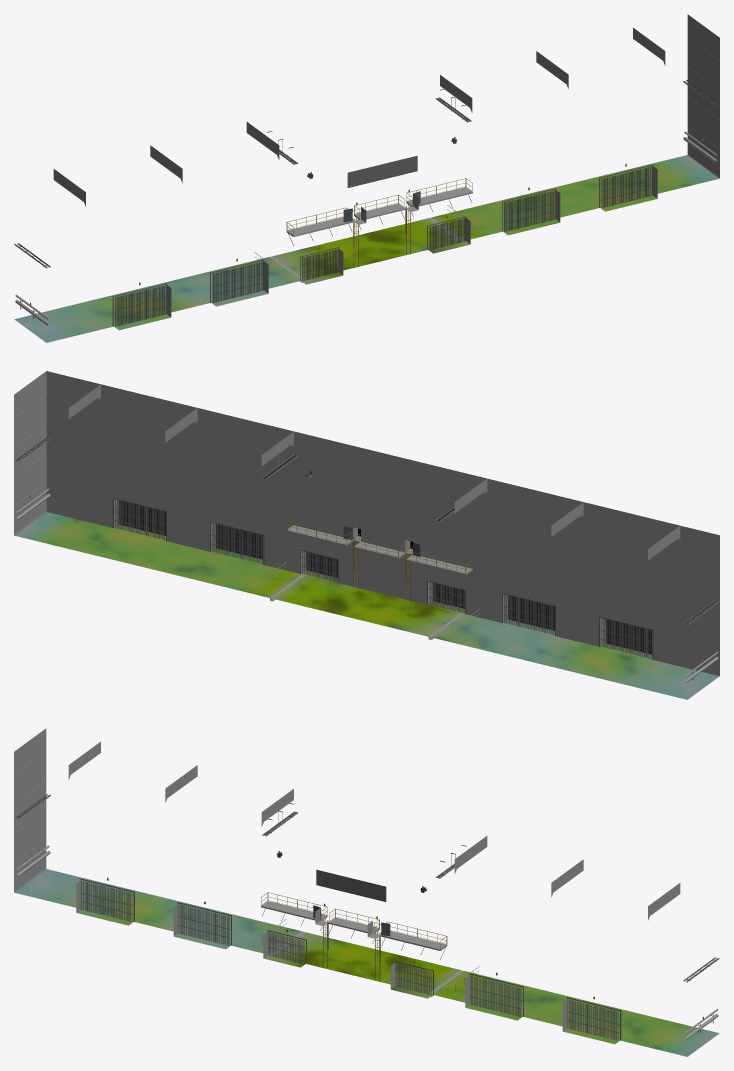
File: cistern_end_downstream.glb
3 views of the same model, one above another, from view 1: azimuth 30°, elevation 25°; view 2: azimuth 150°, elevation 25°; view 3: azimuth 330°, elevation 25° (orthographic).
Parts seen in each view (by area): view 1: CIS_Floor, CIS_Steel, CIS_Shell, CIS_Galv, CIS_Grate; view 2: CIS_Shell, CIS_Floor, CIS_Steel, CIS_Void, CIS_Galv, CIS_Grate, CIS_Sign; view 3: CIS_Floor, CIS_Steel, CIS_Shell, CIS_Galv, CIS_Grate.
Boxes of the visible parts, bbox=[...] form: CIS_Floor: bbox=[14, 155, 719, 342]; CIS_Steel: bbox=[15, 80, 718, 326]; CIS_Shell: bbox=[53, 14, 719, 316]; CIS_Galv: bbox=[14, 80, 719, 325]; CIS_Grate: bbox=[270, 187, 471, 280]; CIS_Shell: bbox=[14, 371, 719, 675]; CIS_Floor: bbox=[14, 512, 719, 699]; CIS_Steel: bbox=[15, 437, 718, 680]; CIS_Void: bbox=[119, 501, 651, 654]; CIS_Galv: bbox=[14, 437, 719, 682]; CIS_Grate: bbox=[270, 525, 471, 637]; CIS_Sign: bbox=[348, 490, 416, 521]; CIS_Floor: bbox=[14, 869, 719, 1056]; CIS_Steel: bbox=[15, 794, 718, 1040]; CIS_Shell: bbox=[14, 728, 680, 1030]; CIS_Galv: bbox=[14, 794, 719, 1039]; CIS_Grate: bbox=[262, 901, 463, 994].
Bounding box in the file's own units: 90.03 × 18.35 × 8.7.
